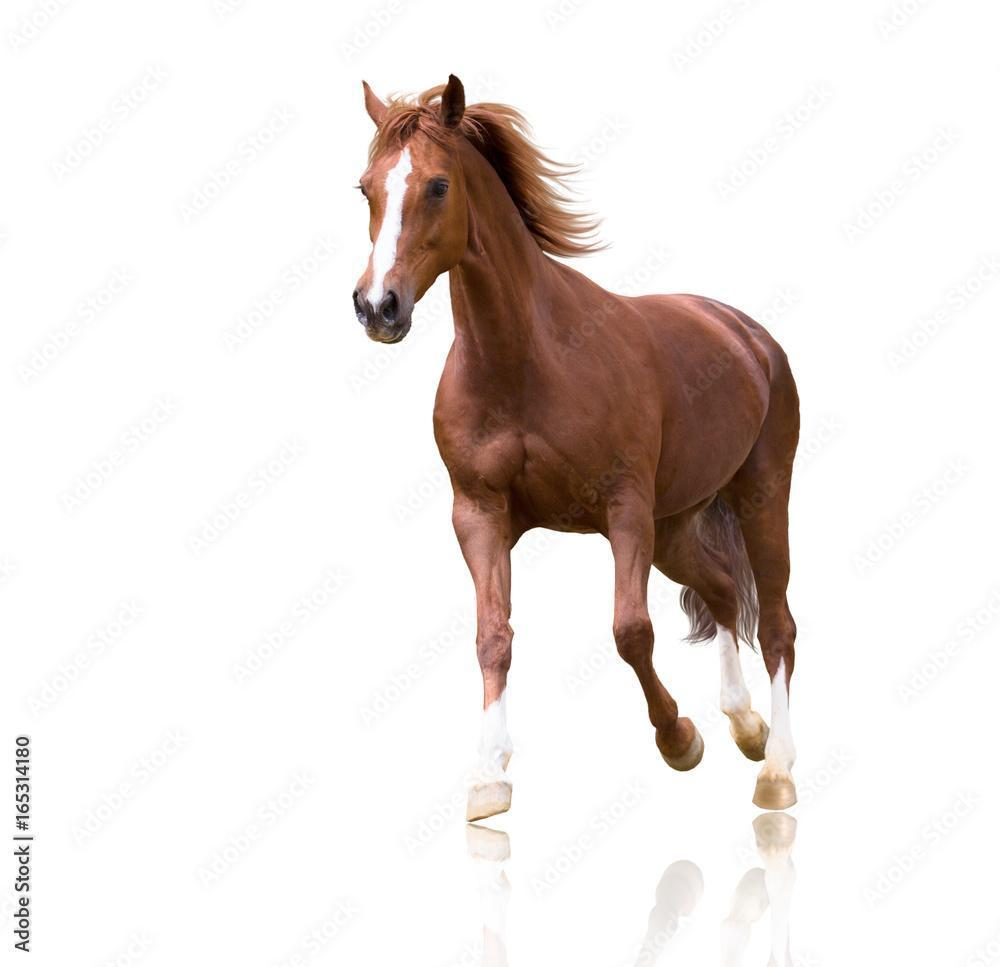horse: (338, 62, 815, 840)
